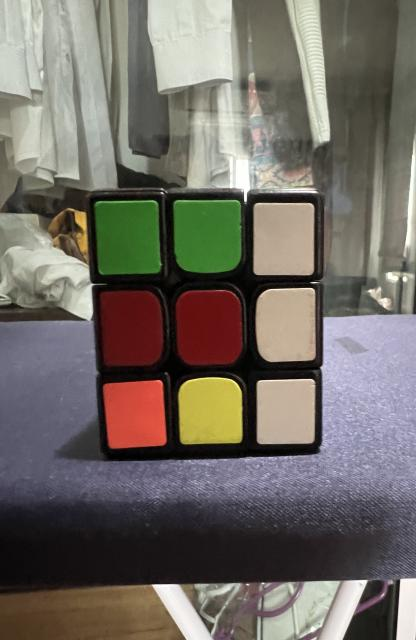Green: (173, 200, 242, 274), (94, 200, 161, 275)
Orange: (103, 380, 167, 449)
Red: (176, 290, 243, 365), (99, 290, 164, 366)
White: (256, 288, 316, 362), (254, 202, 314, 275), (257, 379, 315, 444)
Yellow: (178, 378, 243, 445)
